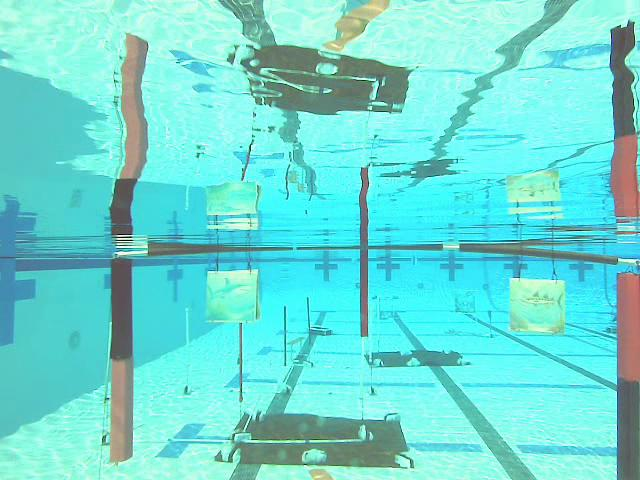black_poster: (307, 297, 311, 346), (240, 323, 242, 401), (284, 306, 286, 366)
divider: (360, 209, 368, 336)
left_gate_poster: (110, 236, 132, 461)
right_gate_poster: (616, 273, 639, 480)
shark: (207, 271, 261, 323)
white_poster: (186, 308, 189, 394)
